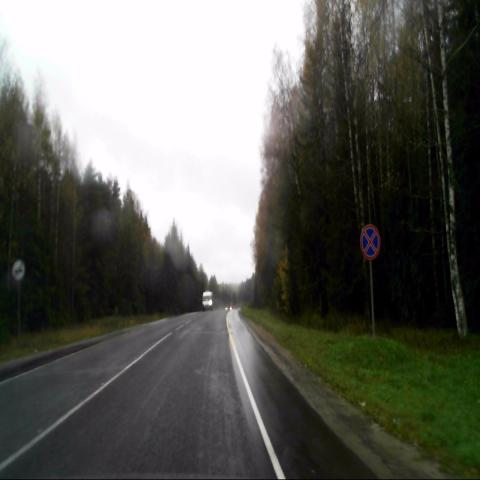3_21: (12, 260, 24, 284)
